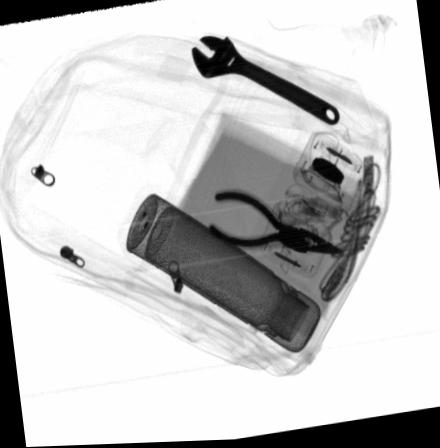Pliers: (207, 192, 347, 259)
Wrench: (190, 36, 339, 129)
